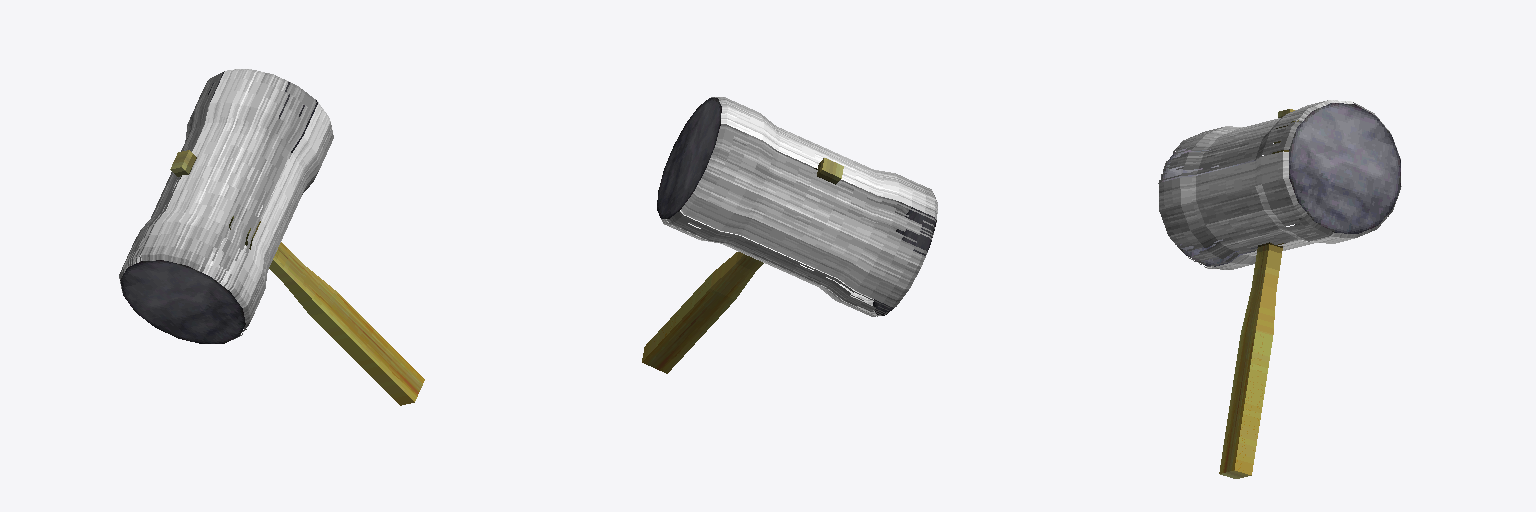
The picture shows the model from 3 angles: view 1: azimuth 30°, elevation 25°; view 2: azimuth 150°, elevation 25°; view 3: azimuth 270°, elevation 25°; orthographic projection.
Parts seen in each view (by area): view 1: JOBJ_0_DOBJ_0_POBJ_0, JOBJ_0_DOBJ_1_POBJ_02, JOBJ_0_DOBJ_2_POBJ_02; view 2: JOBJ_0_DOBJ_0_POBJ_0, JOBJ_0_DOBJ_2_POBJ_02, JOBJ_0_DOBJ_1_POBJ_02; view 3: JOBJ_0_DOBJ_0_POBJ_0, JOBJ_0_DOBJ_1_POBJ_02, JOBJ_0_DOBJ_2_POBJ_02.
Boxes of the visible parts, x1,y1,x2,y2 form: JOBJ_0_DOBJ_0_POBJ_0: [119, 69, 333, 339]; JOBJ_0_DOBJ_1_POBJ_02: [120, 72, 317, 343]; JOBJ_0_DOBJ_2_POBJ_02: [170, 150, 424, 405]; JOBJ_0_DOBJ_0_POBJ_0: [661, 97, 937, 316]; JOBJ_0_DOBJ_2_POBJ_02: [642, 158, 843, 373]; JOBJ_0_DOBJ_1_POBJ_02: [657, 98, 936, 315]; JOBJ_0_DOBJ_0_POBJ_0: [1158, 100, 1401, 269]; JOBJ_0_DOBJ_1_POBJ_02: [1160, 103, 1400, 266]; JOBJ_0_DOBJ_2_POBJ_02: [1219, 109, 1298, 478].
Size of the model in its own units: 13.19 by 14.12 by 9.49.
Materials: 3 (3 with a texture image).